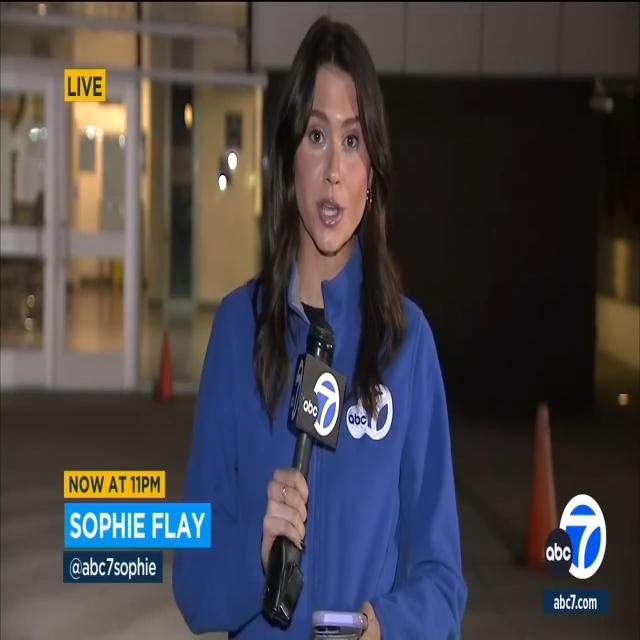microphone: (262, 307, 346, 631)
